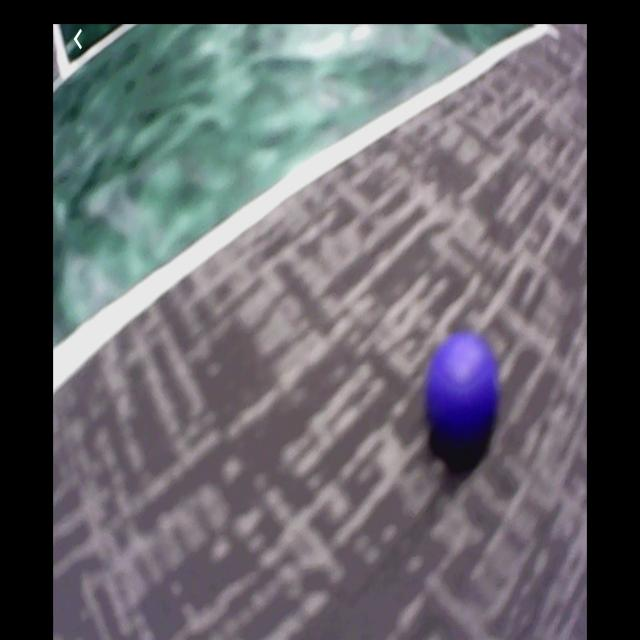ball: (426, 336, 499, 456)
